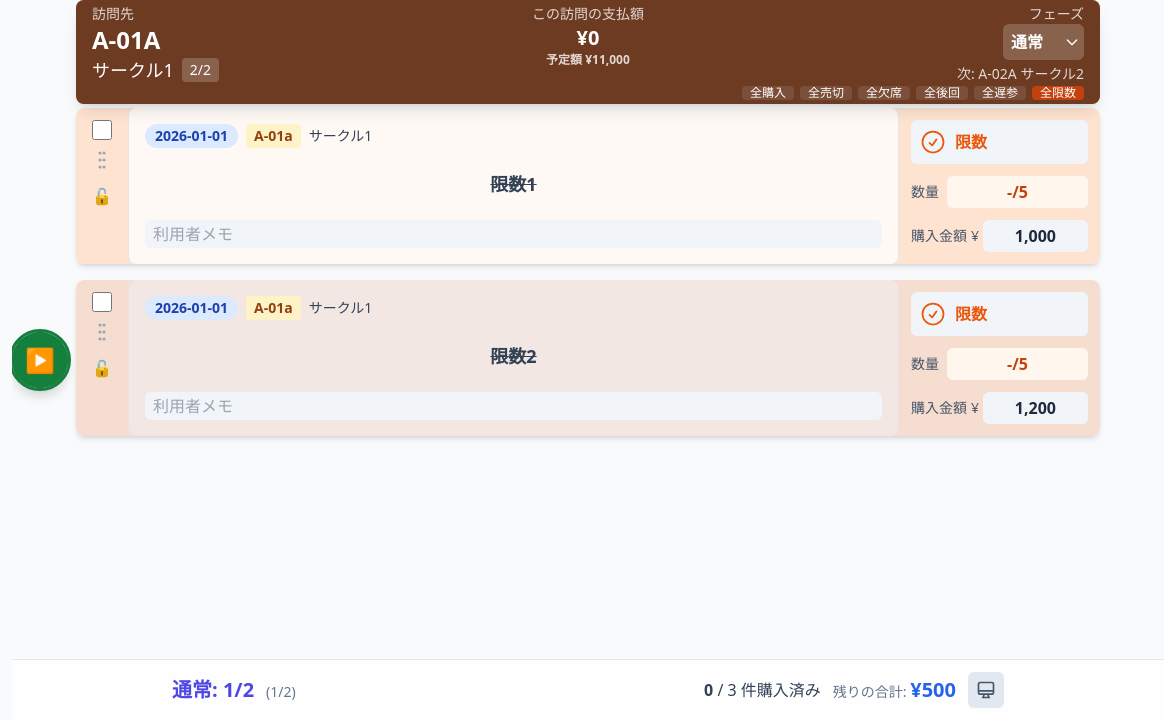
it: FocusMode limited purchase defer - integration › preserves the existing global limited purchase check disable behavior
Click the button titled "次の訪問先". click: [40, 360]
box: [12,332,68,388]
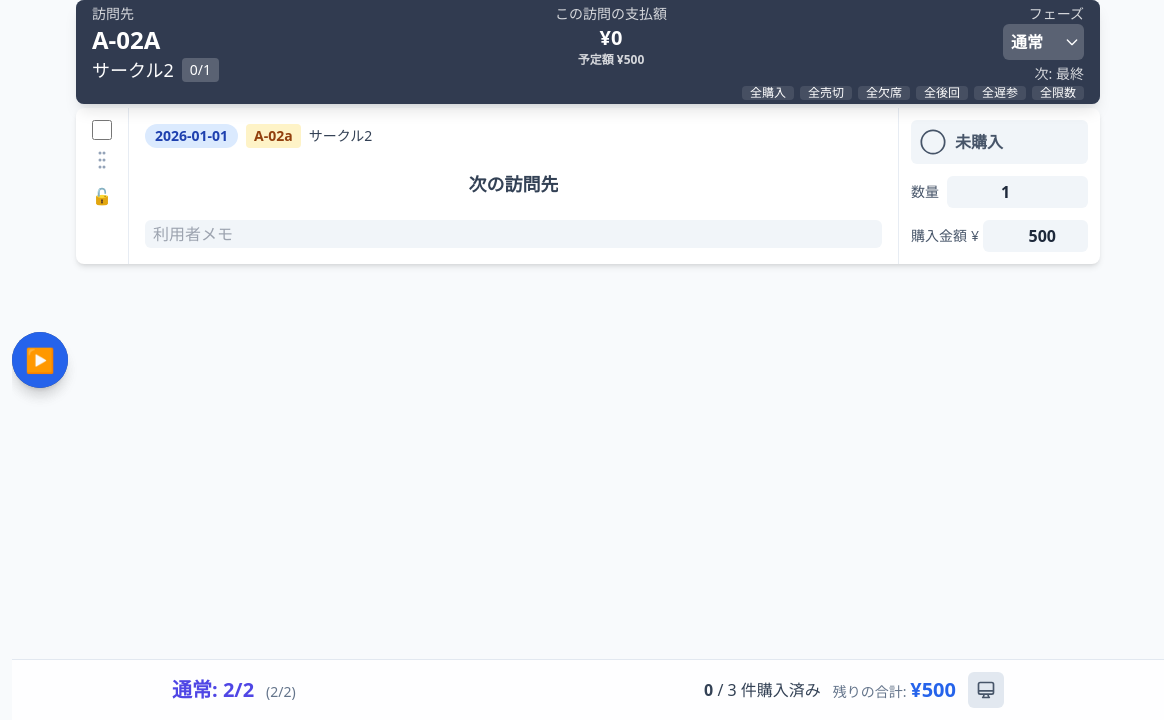
Expected: the text "A-02A" is shown, [92,23,160,56]
